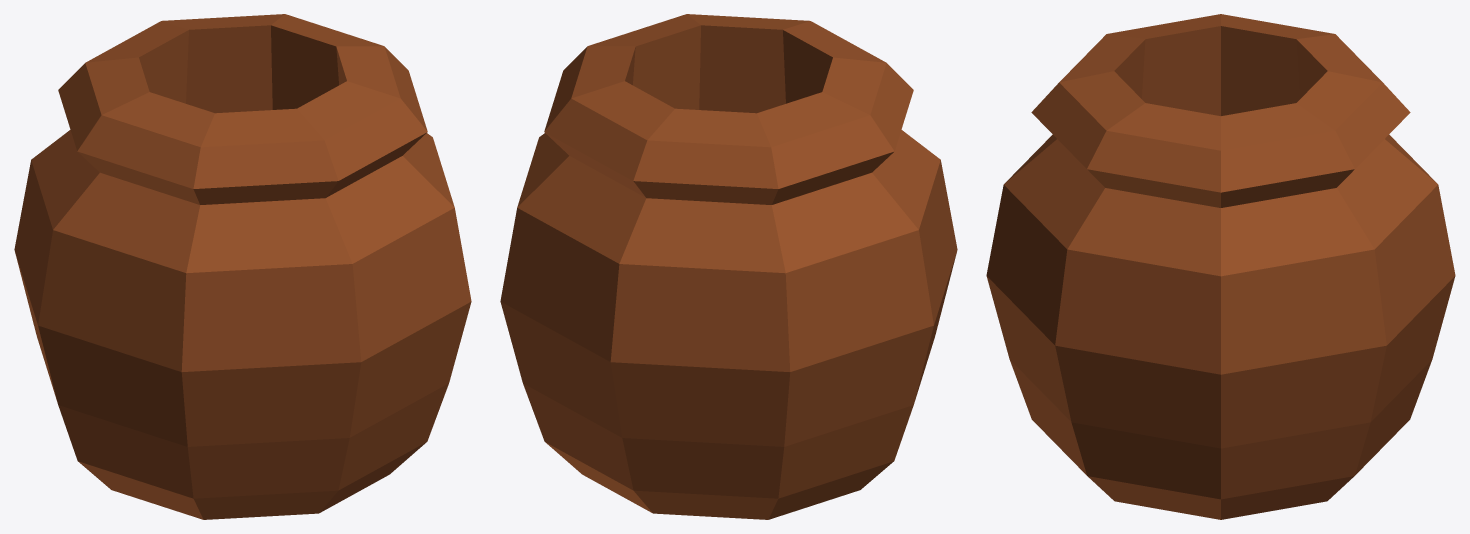
File: SmallPot.fbx
3 views of the same model, side by side, from view 1: azimuth 30°, elevation 25°; view 2: azimuth 150°, elevation 25°; view 3: azimuth 270°, elevation 25° (orthographic).
Parts seen in each view (by area): view 1: Cylinder.001; view 2: Cylinder.001; view 3: Cylinder.001.
Boxes of the visible parts, bbox=[...] form: Cylinder.001: bbox=[14, 14, 471, 519]; Cylinder.001: bbox=[500, 14, 957, 519]; Cylinder.001: bbox=[986, 14, 1455, 519].
Bounding box in the file's own units: 64.14 × 58.13 × 64.14.
